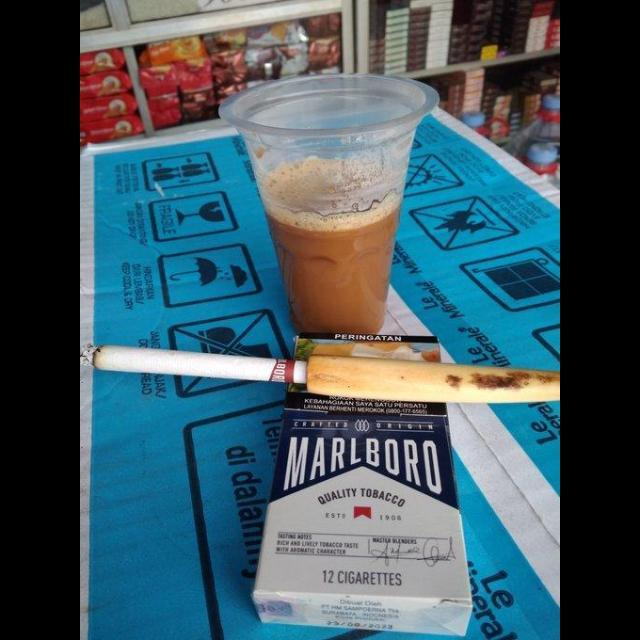rokok: (80, 335, 308, 395)
